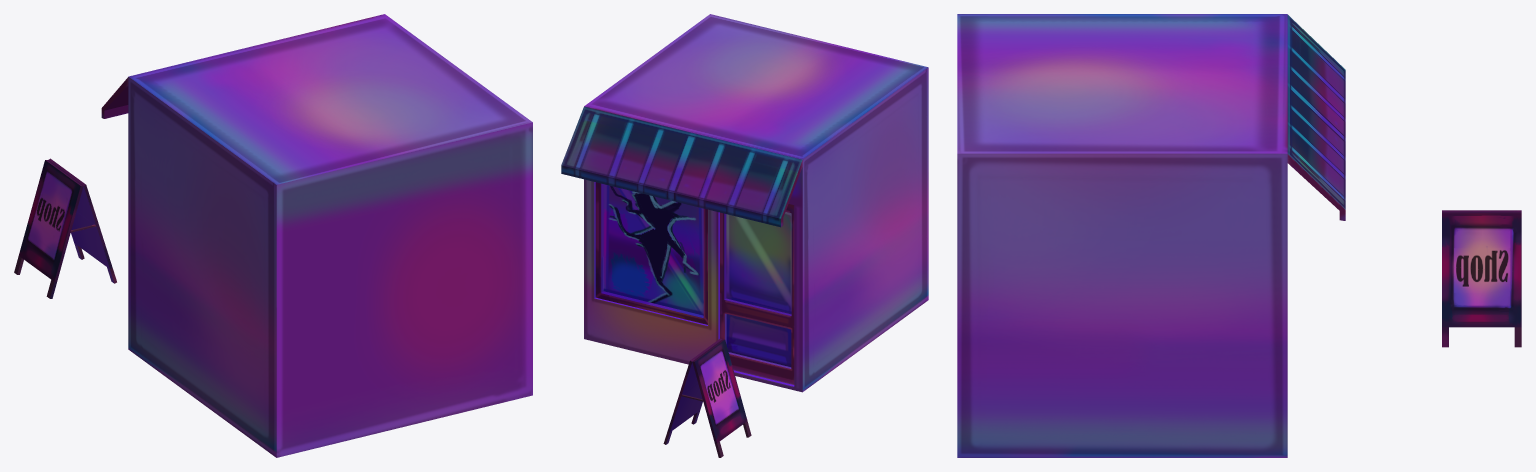
File: SUP_ARCH_Shop.fbx
The picture shows the model from 3 angles, left to right: view 1: azimuth 30°, elevation 25°; view 2: azimuth 150°, elevation 25°; view 3: azimuth 270°, elevation 25°; orthographic projection. The views are drawn at different scales.
Visible parts, largest first — view 1: Cube.003, Cube.005, Cube.004; view 2: Cube.003, Cube.004, Cube.005; view 3: Cube.003, Cube.005, Cube.004.
Part boxes in pixels (bbox=[...]): Cube.003: bbox=[128, 14, 532, 457]; Cube.005: bbox=[14, 158, 116, 298]; Cube.004: bbox=[101, 77, 128, 118]; Cube.003: bbox=[584, 14, 928, 392]; Cube.004: bbox=[561, 106, 802, 227]; Cube.005: bbox=[663, 338, 751, 457]; Cube.003: bbox=[957, 14, 1287, 457]; Cube.005: bbox=[1442, 210, 1521, 347]; Cube.004: bbox=[1287, 15, 1345, 220].
Bounding box in the file's own units: 352 × 344 × 579.
1 material, 1 textured.
